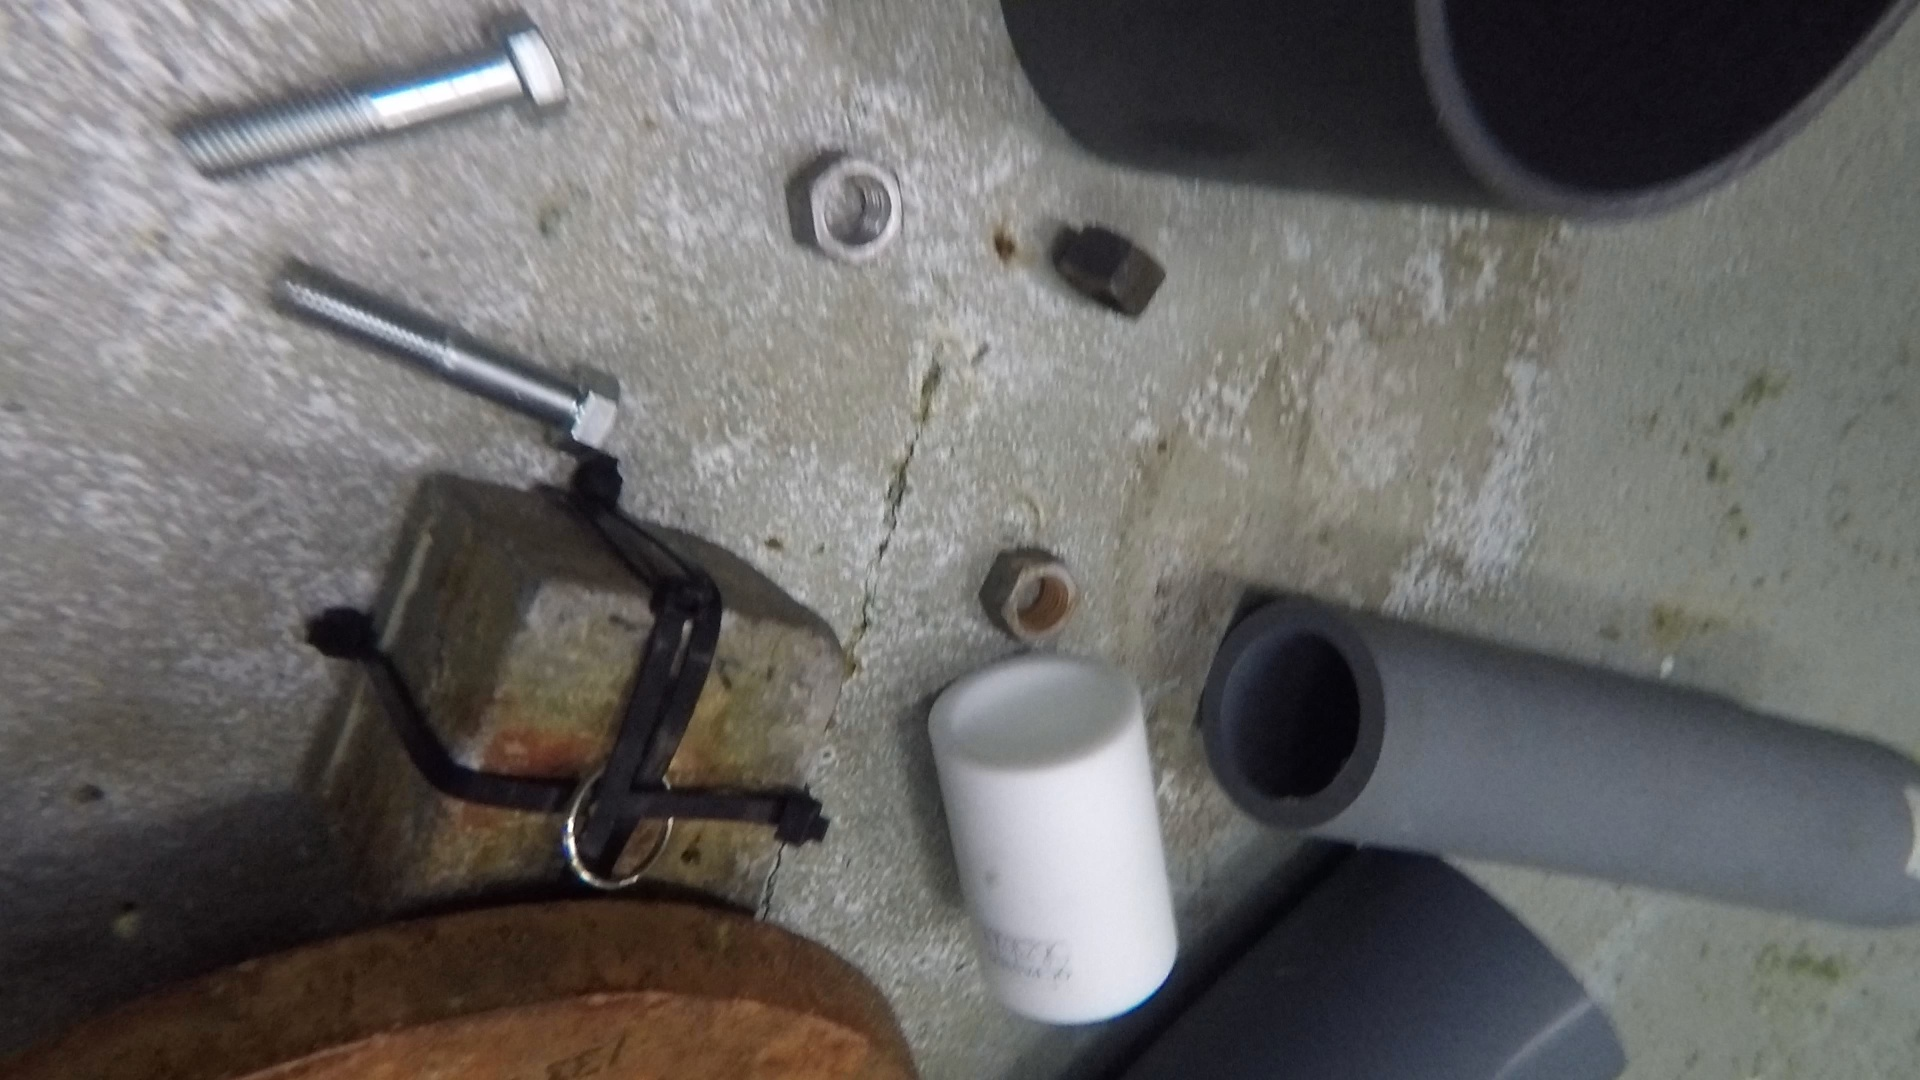bolt: (266, 257, 624, 460), (169, 7, 572, 183)
flange: (1, 895, 924, 1077)
led_block: (298, 454, 848, 918)
nut: (786, 145, 907, 268), (1058, 224, 1171, 324), (977, 549, 1087, 647)
pipe: (1200, 595, 1920, 923), (1000, 3, 1920, 224), (1102, 849, 1627, 1080), (927, 649, 1180, 1025)
